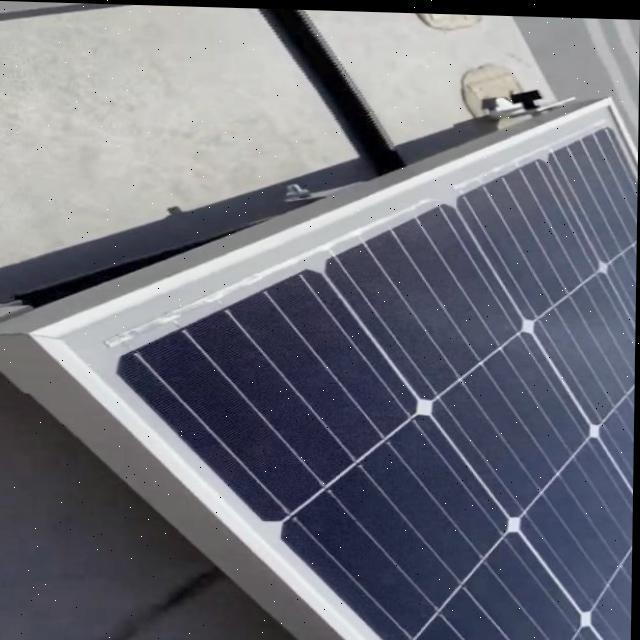Normal Solar Panel: (33, 81, 640, 640)
